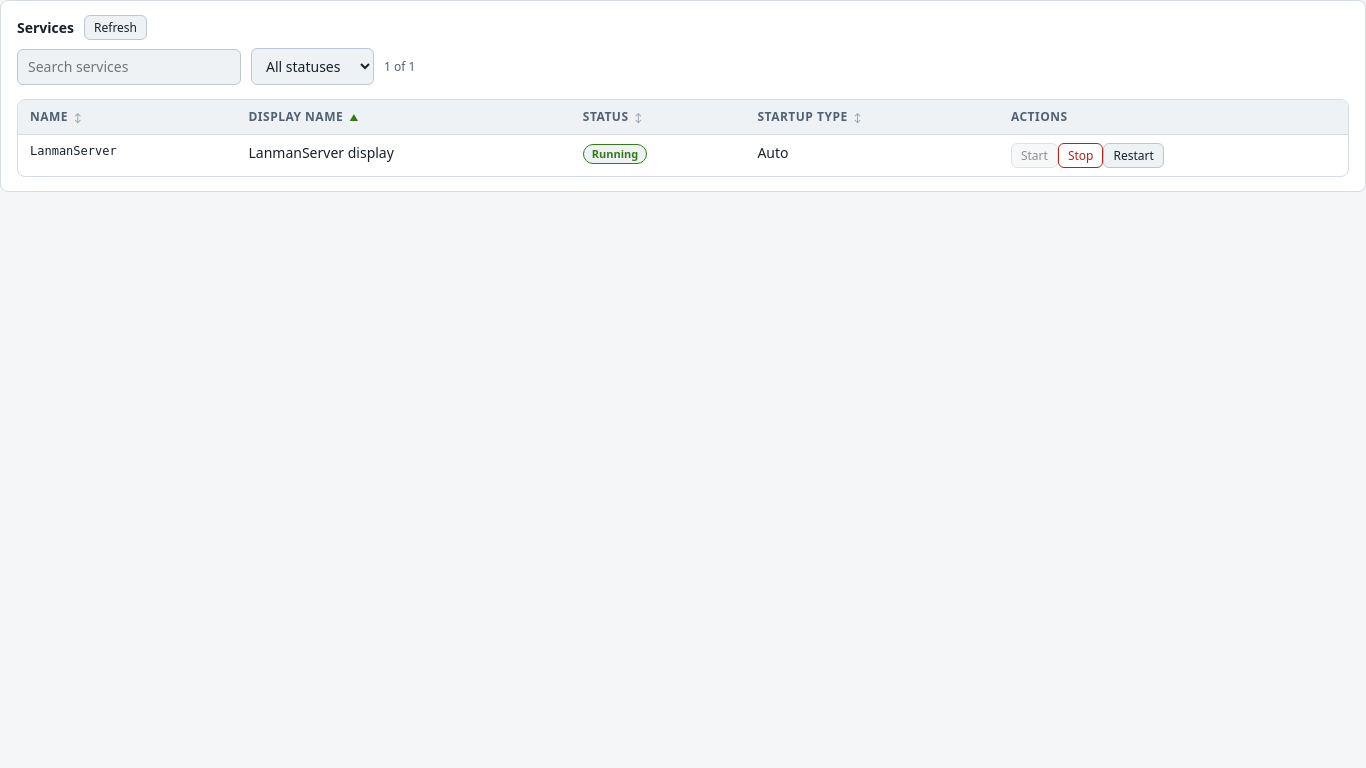
Scenario: dependents flow › an unavailable dependents answer blocks like an error
Click the button with aria-label "Stop LanmanServer" at (1081, 156), box [1058,143,1104,168]
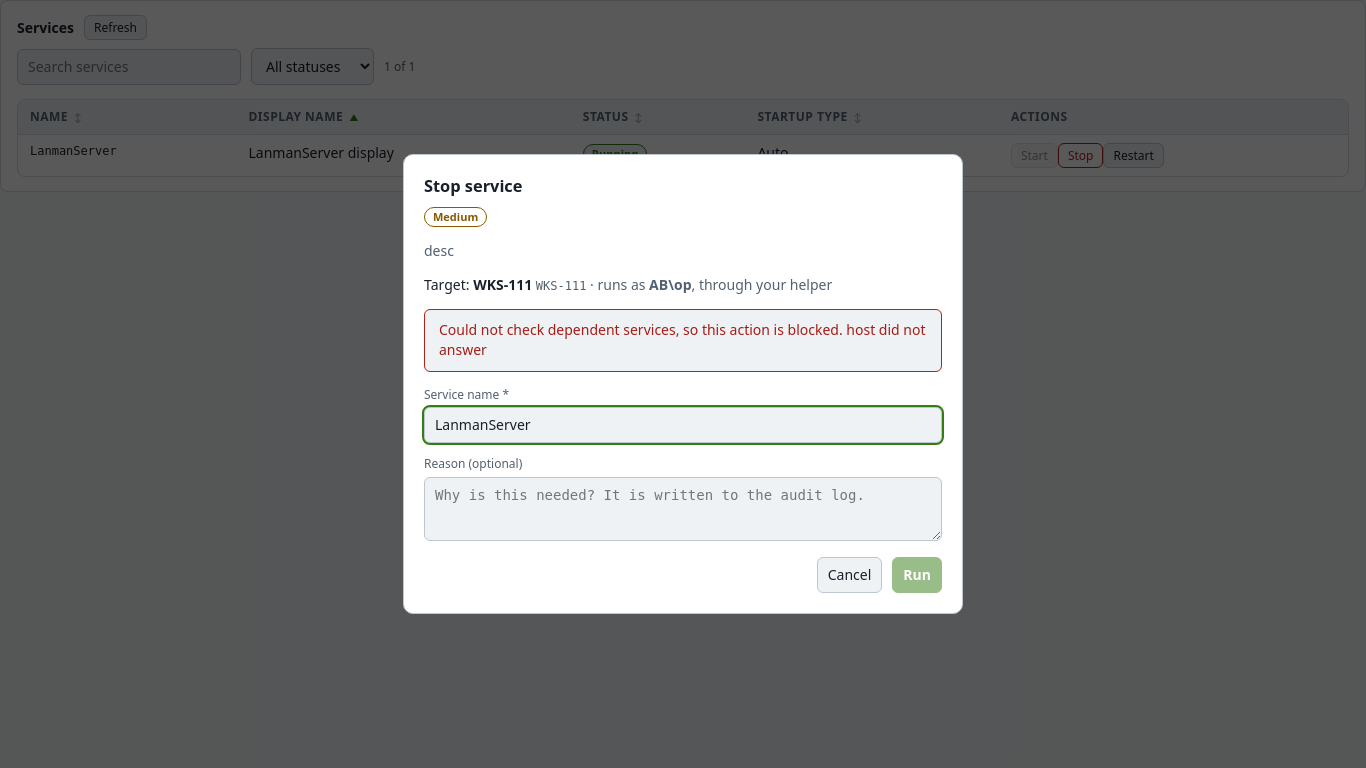
Check: the text "Could not check dependent services" is shown, box [439,320,846,339]
Check: the button "Run" is disabled, box [892,557,942,593]
